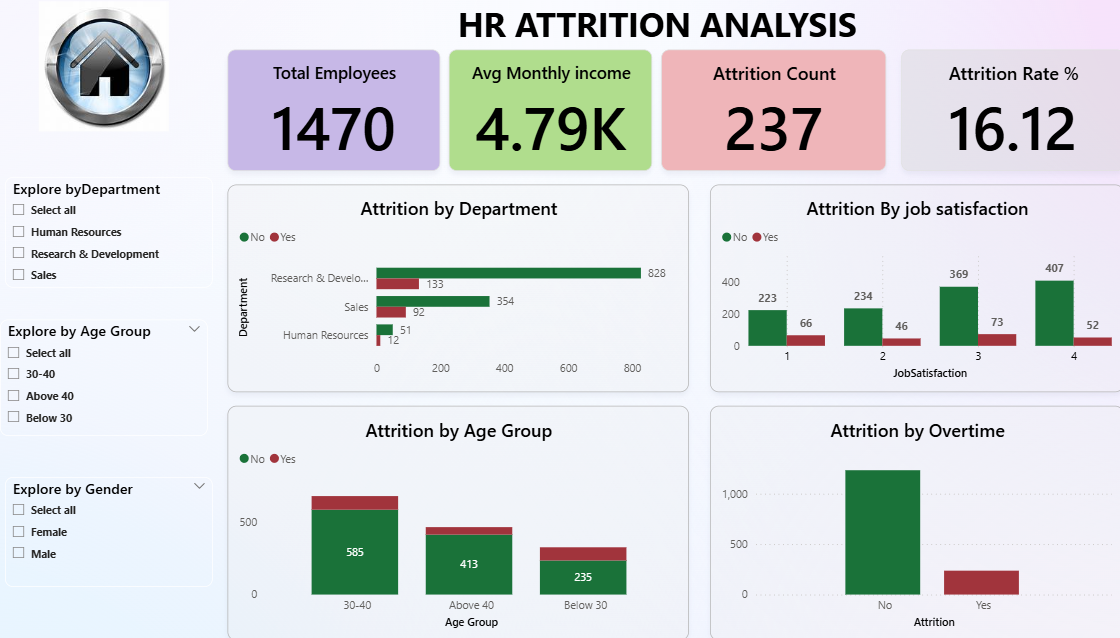

What the dashboard file says about the page in this screenshot:
{"tool":"powerbi","page":{"name":"Analysis","canvas":[1280,720],"ordinal":0},"visuals":[{"type":"card","title":"Total Employees","fields":{"Values":["HR-Employee.Total Employees"]},"box":[258.8,58.4,236.5,135],"z":0},{"type":"card","title":"Avg Monthly income","fields":{"Values":["HR-Employee.Avg Monthly Income (Attrited)"]},"box":[505,58.4,226.8,135],"z":1000},{"type":"columnChart","title":"Attrition by Age Group","fields":{"Y":["CountNonNull(HR-Employee.Attrition)"],"Category":["HR-Employee.Age Group"],"Series":["HR-Employee.Attrition"]},"box":[258.8,455,513.4,261.6],"z":2000},{"type":"clusteredBarChart","title":"Attrition by Department","fields":{"Category":["HR-Employee.Department"],"Y":["Sum(HR-Employee.EmployeeCount)"],"Series":["HR-Employee.Attrition"]},"box":[258.8,208.7,513.4,231],"z":4000},{"type":"clusteredColumnChart","title":"Attrition  By job satisfaction","fields":{"Category":["HR-Employee.JobSatisfaction"],"Y":["Sum(HR-Employee.EmployeeCount)"],"Series":["HR-Employee.Attrition"]},"box":[795.8,208.7,460.5,231],"z":5000},{"type":"slicer","fields":{"Values":["HR-Employee.Gender"]},"box":[11,534.4,231.1,122.3],"z":6000},{"type":"slicer","fields":{"Values":["HR-Employee.Department"]},"box":[11,200.5,231.1,123.5],"z":7000},{"type":"slicer","fields":{"Values":["HR-Employee.Age Group"]},"box":[6.1,359.5,231.1,129.6],"z":8000},{"type":"card","title":"Attrition Count","fields":{"Values":["HR-Employee.Attrition Count"]},"box":[741.6,58.4,250.4,135],"z":10000},{"type":"textbox","box":[214.3,0,1053.2,58.4],"z":12000},{"type":"image","box":[43.1,0,155.8,154.4],"z":13000},{"type":"card","title":"Attrition Rate %","fields":{"Values":["HR-Employee.Attrition Rate (%)"]},"box":[1008.7,58.4,249,135],"z":13001},{"type":"lineClusteredColumnComboChart","title":"Attrition  by Overtime","fields":{"Category":["HR-Employee.Attrition"],"Y":["CountNonNull(HR-Employee.OverTime)"]},"box":[795.8,455,460.5,261.6],"z":13002}]}

Visuals, with their boxes in screenshot pixels (x1, y1, x2, y2), scaled from the page's 1280x720 canvas onto the 1120x638 screenshot:
"Total Employees" card: 226, 52, 433, 171
"Avg Monthly income" card: 442, 52, 640, 171
"Attrition by Age Group" columnChart: 226, 403, 676, 635
"Attrition by Department" clusteredBarChart: 226, 185, 676, 390
"Attrition  By job satisfaction" clusteredColumnChart: 696, 185, 1099, 390
slicer - HR-Employee.Gender: 10, 474, 212, 582
slicer - HR-Employee.Department: 10, 178, 212, 287
slicer - HR-Employee.Age Group: 5, 319, 208, 433
"Attrition Count" card: 649, 52, 868, 171
textbox: 188, 0, 1109, 52
image: 38, 0, 174, 137
"Attrition Rate %" card: 883, 52, 1100, 171
"Attrition  by Overtime" lineClusteredColumnComboChart: 696, 403, 1099, 635
